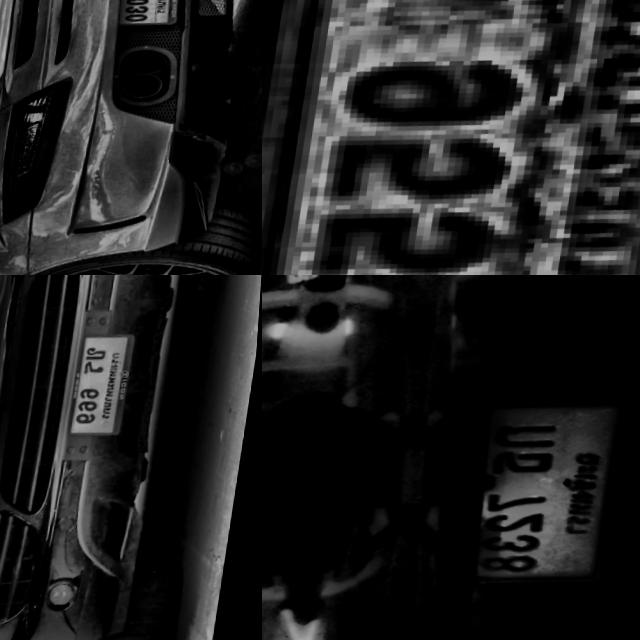license-plate: (262, 0, 640, 275), (478, 412, 630, 589), (69, 340, 140, 451), (111, 0, 191, 41)
